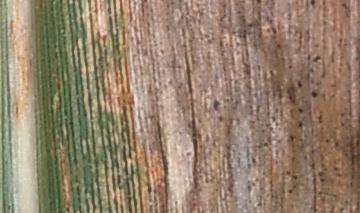tarspot: (212, 99, 224, 112), (311, 54, 322, 64), (310, 90, 320, 100), (182, 151, 196, 158), (283, 168, 295, 176), (296, 79, 305, 89), (270, 26, 280, 35), (332, 140, 341, 150), (296, 119, 304, 130), (317, 177, 329, 184), (308, 1, 317, 10), (288, 135, 297, 143), (253, 1, 265, 7), (296, 107, 306, 114), (292, 174, 300, 182), (247, 21, 255, 29), (250, 157, 258, 165), (275, 44, 284, 51), (332, 166, 340, 173), (287, 64, 296, 70), (287, 188, 294, 195), (288, 95, 294, 102)
